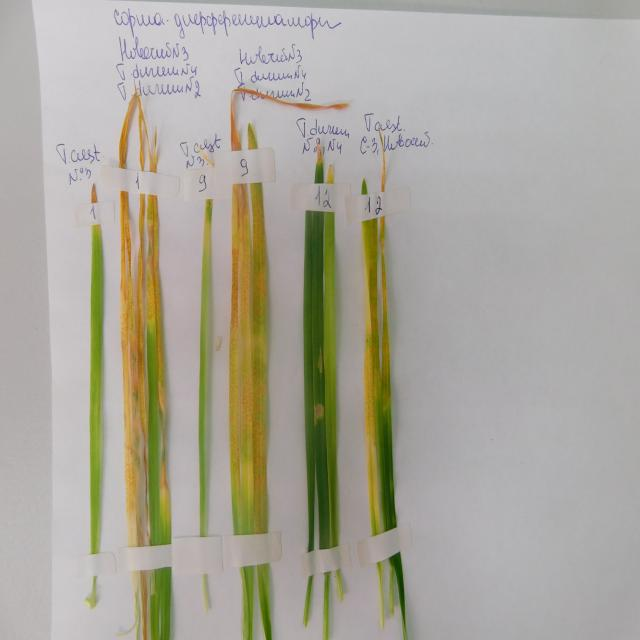wheat-yellowrust: (122, 193, 171, 551), (229, 185, 270, 535), (360, 216, 395, 535), (119, 98, 164, 175)
